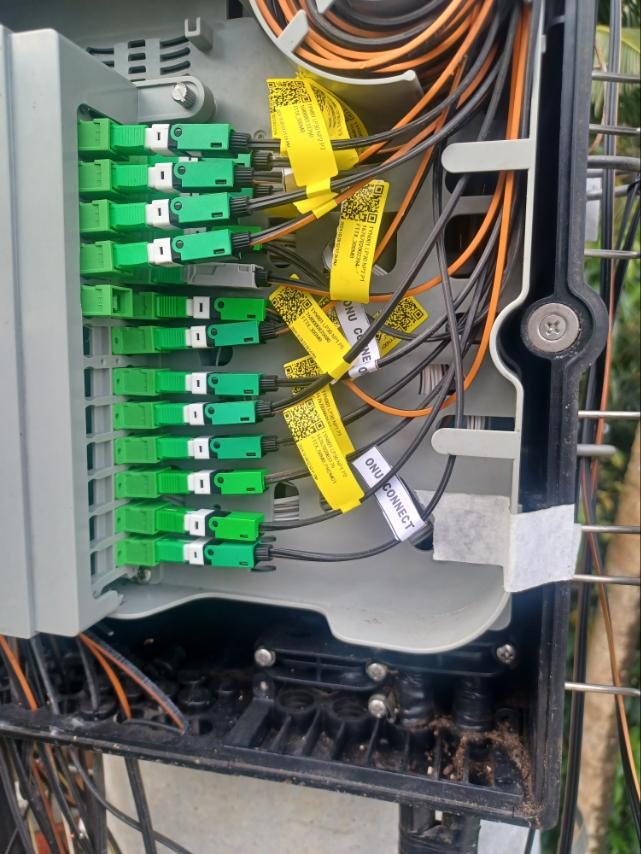no dust cap: (111, 286, 133, 317)
no port: (81, 474, 115, 516), (81, 440, 114, 480), (85, 511, 115, 554), (89, 544, 117, 584), (80, 406, 112, 440), (77, 325, 110, 356), (78, 368, 111, 399)
occupied: (113, 192, 253, 232), (114, 230, 254, 270), (110, 120, 252, 155), (114, 159, 255, 193), (146, 176, 276, 212), (149, 141, 274, 178), (154, 258, 273, 294), (155, 320, 281, 354), (153, 506, 268, 543), (156, 370, 278, 401), (154, 538, 272, 570), (154, 399, 277, 427), (156, 433, 281, 459), (155, 225, 271, 252), (156, 297, 272, 324), (154, 469, 268, 495)
